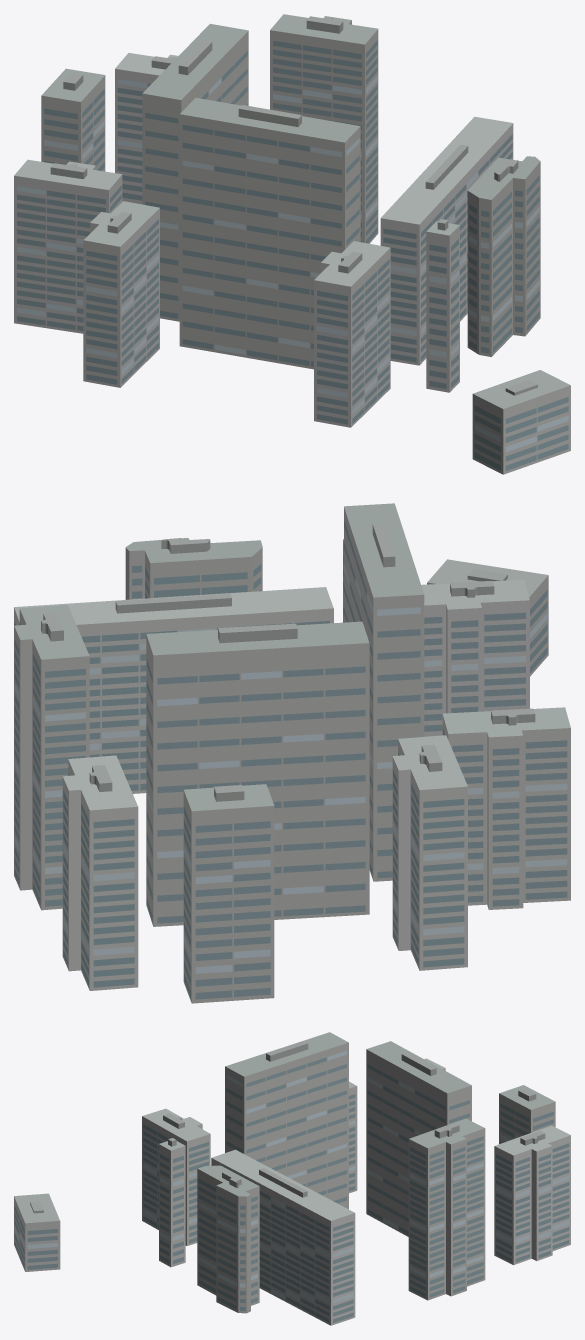
File: apt-a13122001.glb
The picture shows the model from 3 angles, top to bottom: view 1: azimuth 30°, elevation 25°; view 2: azimuth 150°, elevation 25°; view 3: azimuth 270°, elevation 25°; orthographic projection. The views are drawn at different scales.
Visible parts, largest first — view 1: apt-a13122001; view 2: apt-a13122001; view 3: apt-a13122001.
Part boxes in pixels (x1=…): apt-a13122001: x1=14, y1=14, x2=570, y2=474; apt-a13122001: x1=14, y1=503, x2=570, y2=1003; apt-a13122001: x1=14, y1=1032, x2=570, y2=1325.
Bounding box in the file's own units: 135 × 70 × 198.
